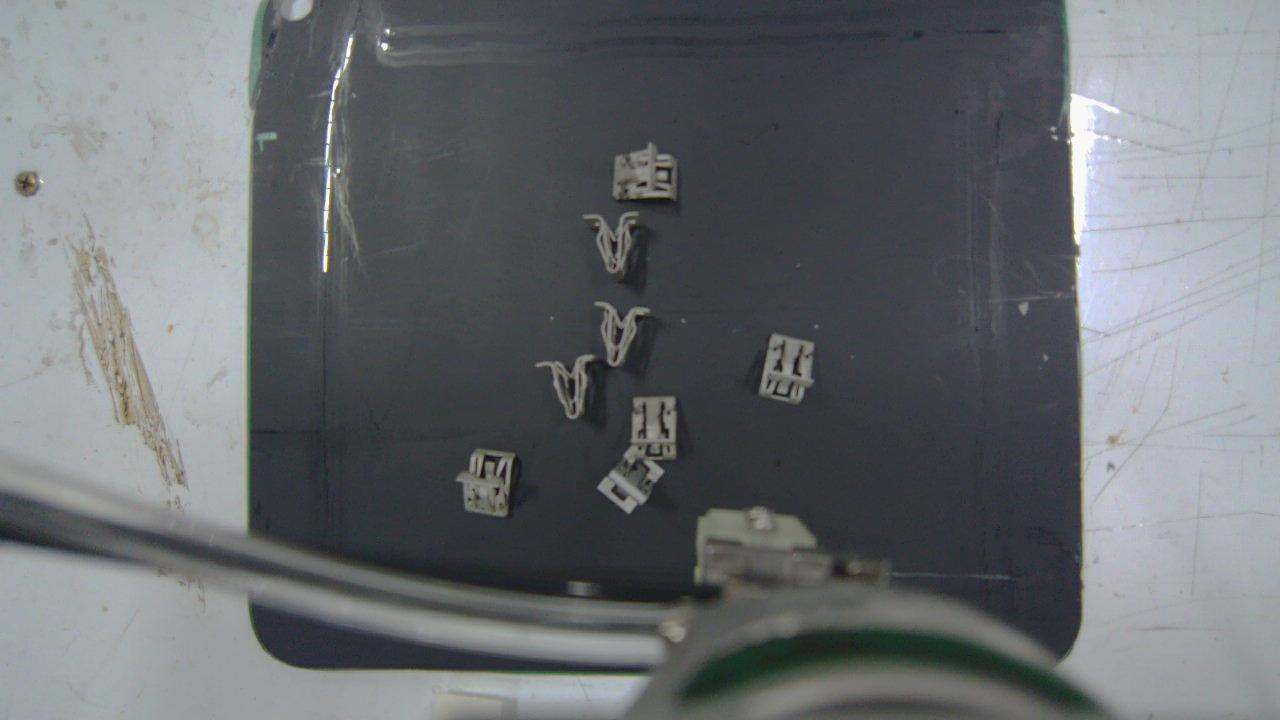ng: (755, 333, 818, 405), (457, 450, 518, 516), (613, 144, 679, 200), (585, 213, 639, 277), (537, 357, 593, 418), (595, 304, 650, 366), (634, 395, 676, 458)
pass: (595, 448, 664, 516)
